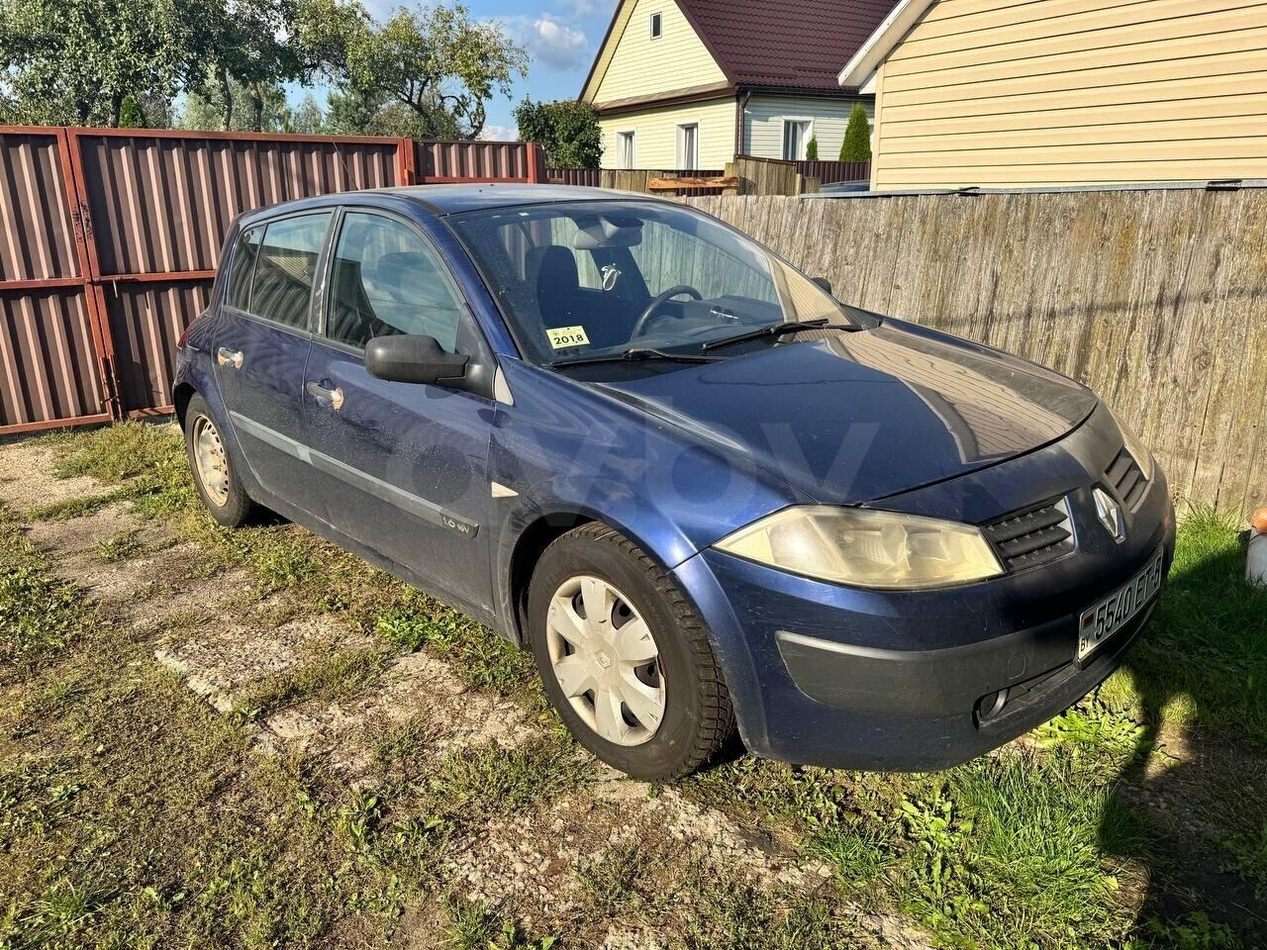Megane_2002-2006: (171, 182, 1189, 783)
